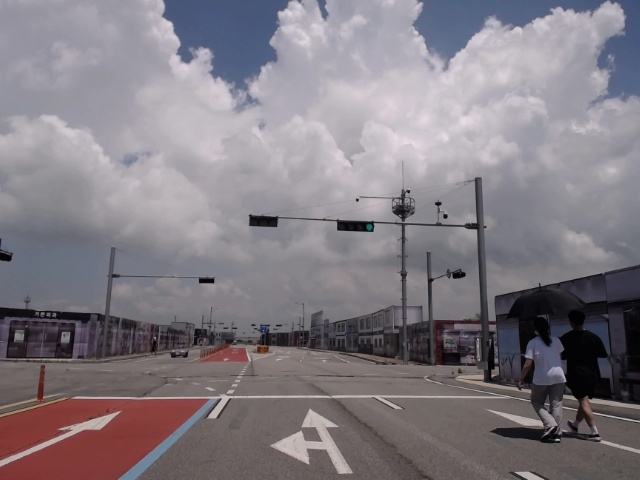straight_green_4: (336, 222, 375, 232)
